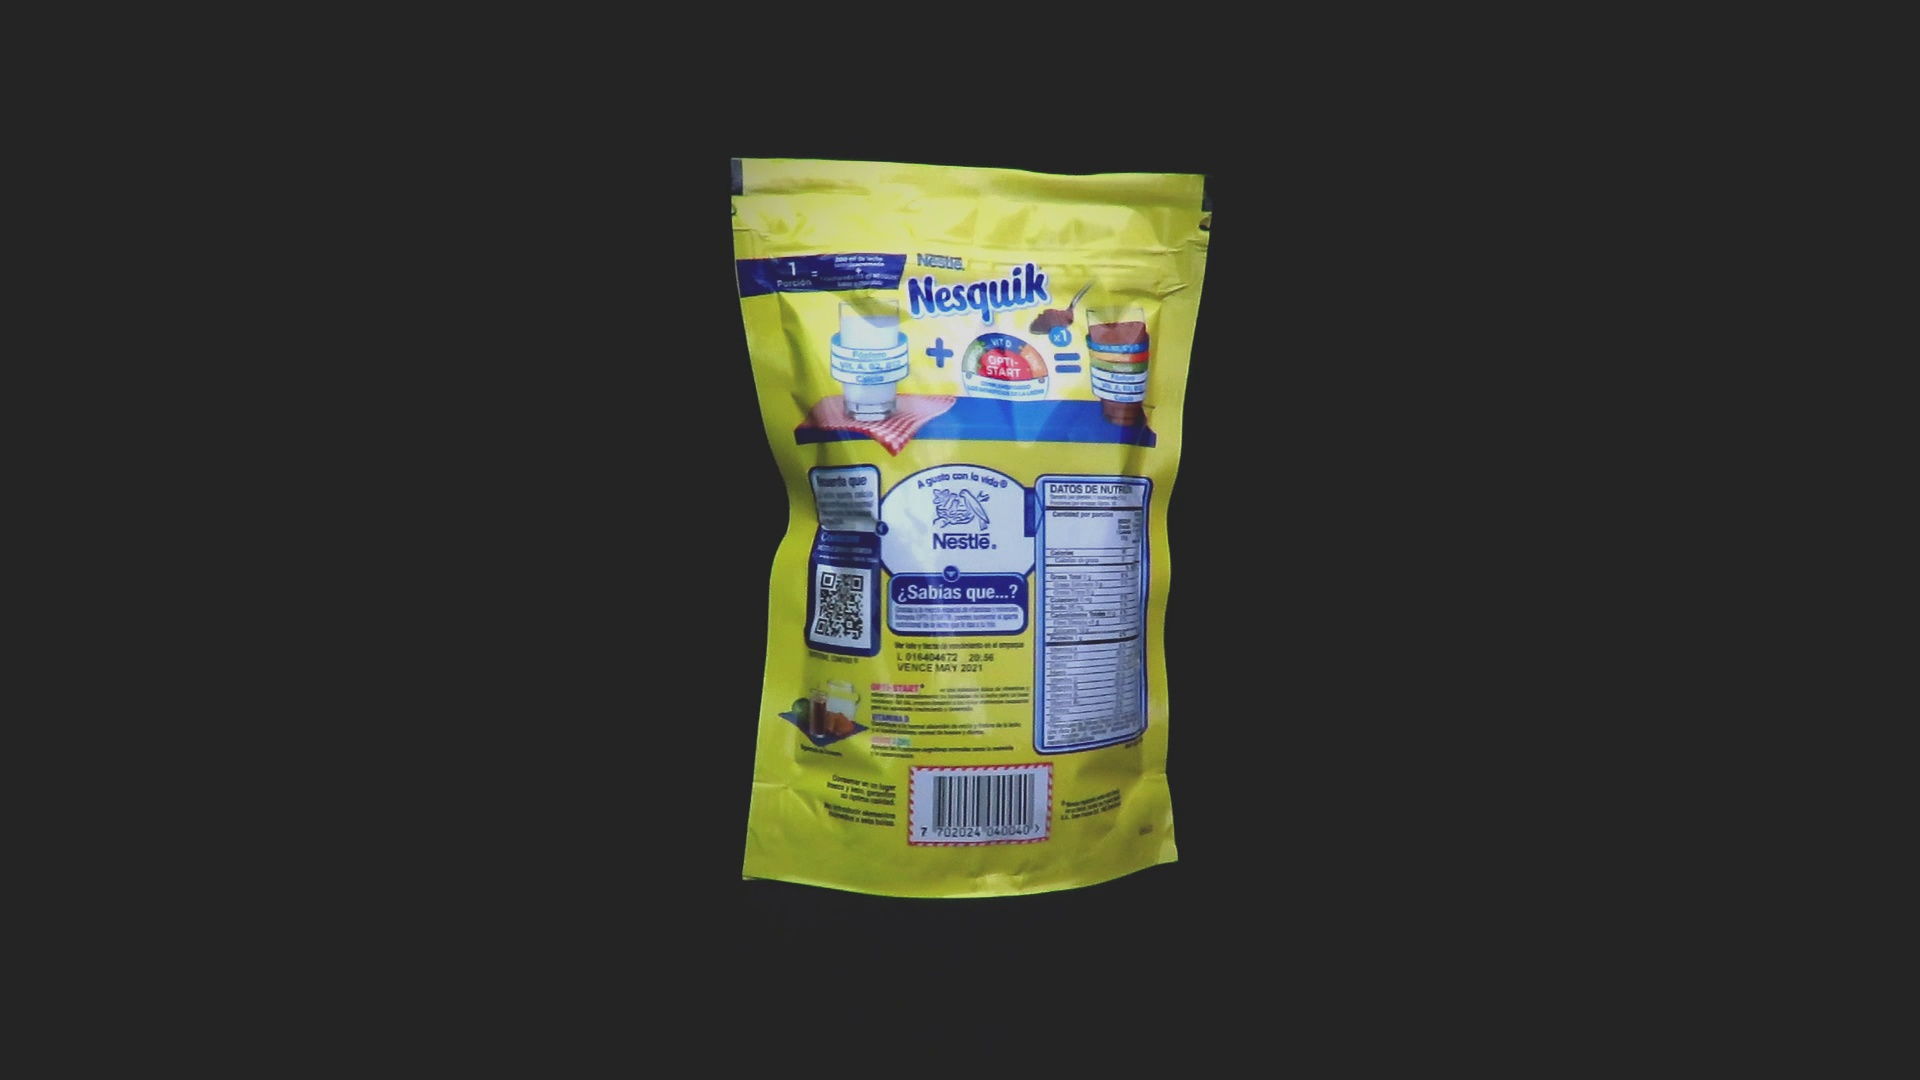COL0170303DYP20000: (725, 152, 1218, 905)
